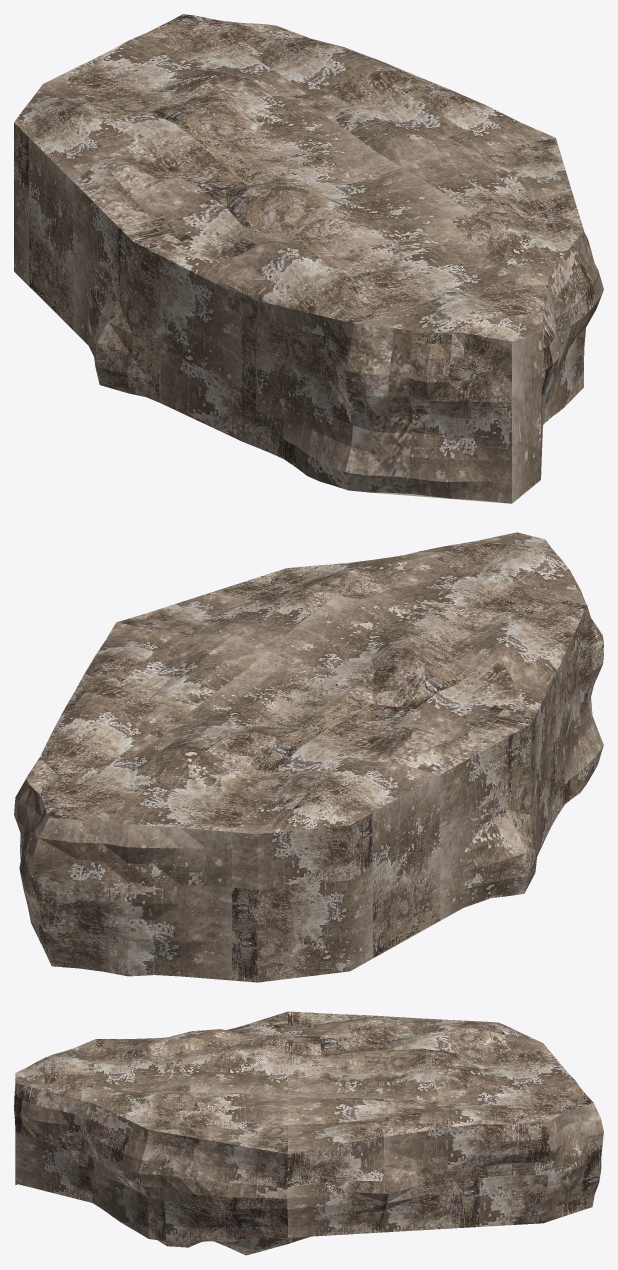
Rendered from Roca7Fierro.fbx.
3 renders of one model, top to bottom at view 1: azimuth 30°, elevation 25°; view 2: azimuth 150°, elevation 25°; view 3: azimuth 270°, elevation 25°, orthographic. The views are drawn at different scales.
Visible parts, largest first — view 1: Escombro1; view 2: Escombro1; view 3: Escombro1.
Part boxes in pixels (<box>): Escombro1: <box>14,14,603,503</box>; Escombro1: <box>14,532,603,982</box>; Escombro1: <box>14,1011,603,1255</box>.
Bounding box in the file's own units: 683 × 334 × 1122.
